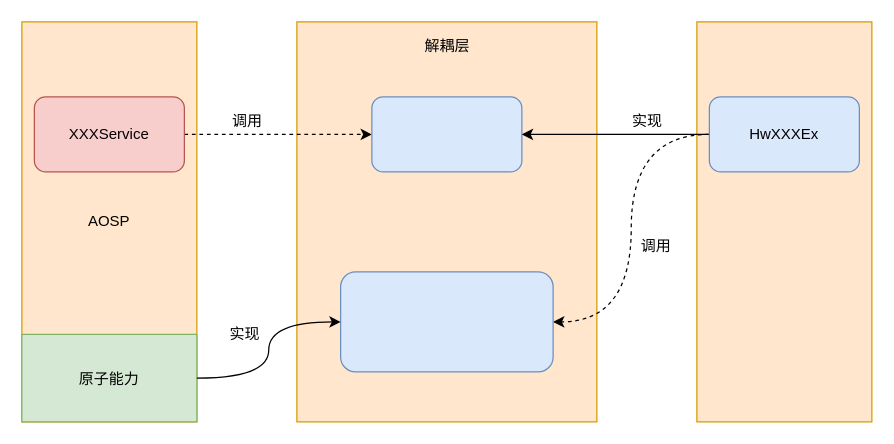
Some shapes in this 894 by 444 pixel diagram are drawn without their labels. Here are the shapes that lost their labels. From the top down, the box of each, then its label:
(371, 96, 522, 172): IHwXXXEx (扩展层接口)
(339, 271, 553, 372): IHwXXXInner (原子能力接口)
